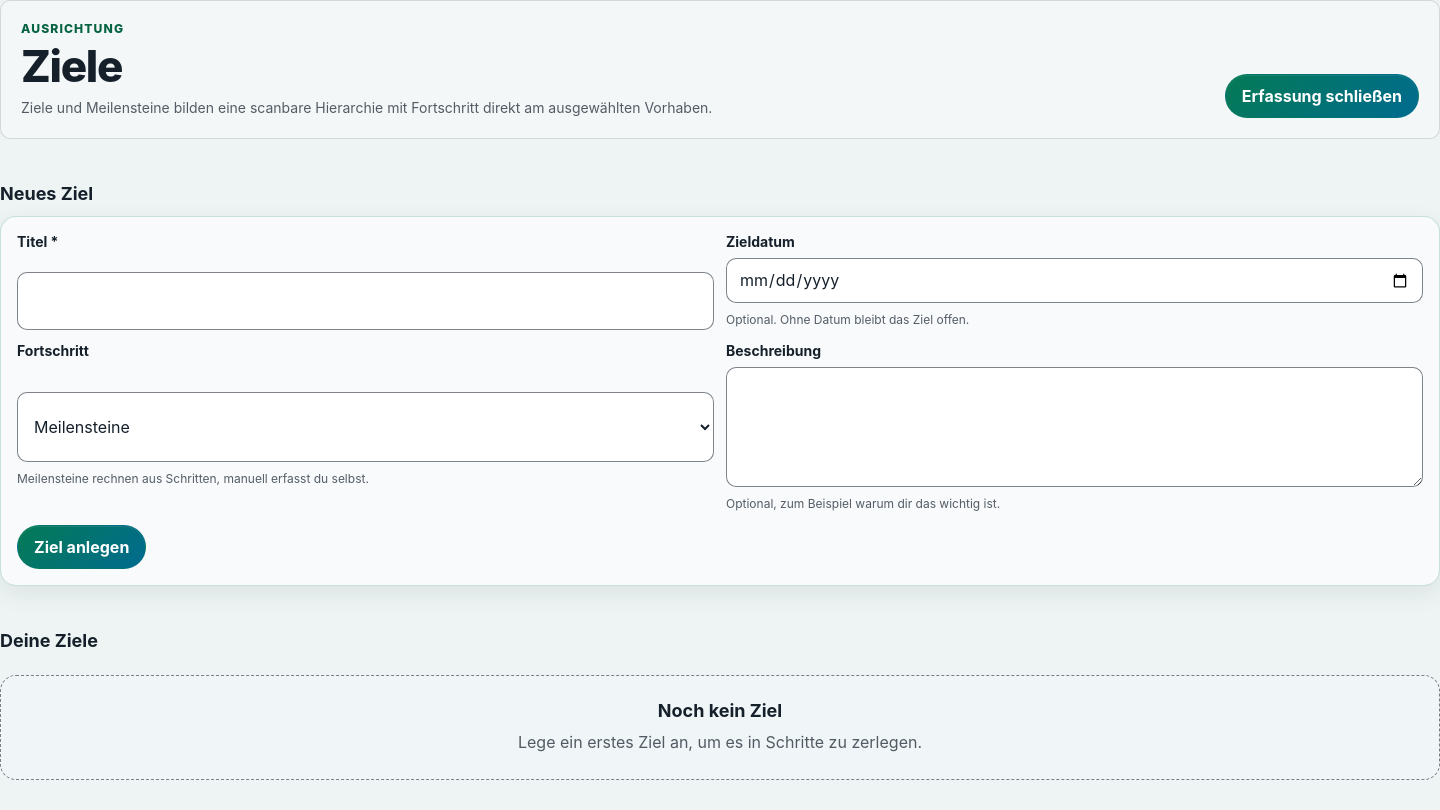
Test: GoalsPage › offers only reachable status transitions
The width and height of the screenshot is (1440, 810).
Expected: the heading "Noch kein Ziel" is shown, [658,700,782,722]
Type "Synthetisches Ziel" into the field labelled "Titel *". click: point(366, 301)
box: [17,272,714,330]
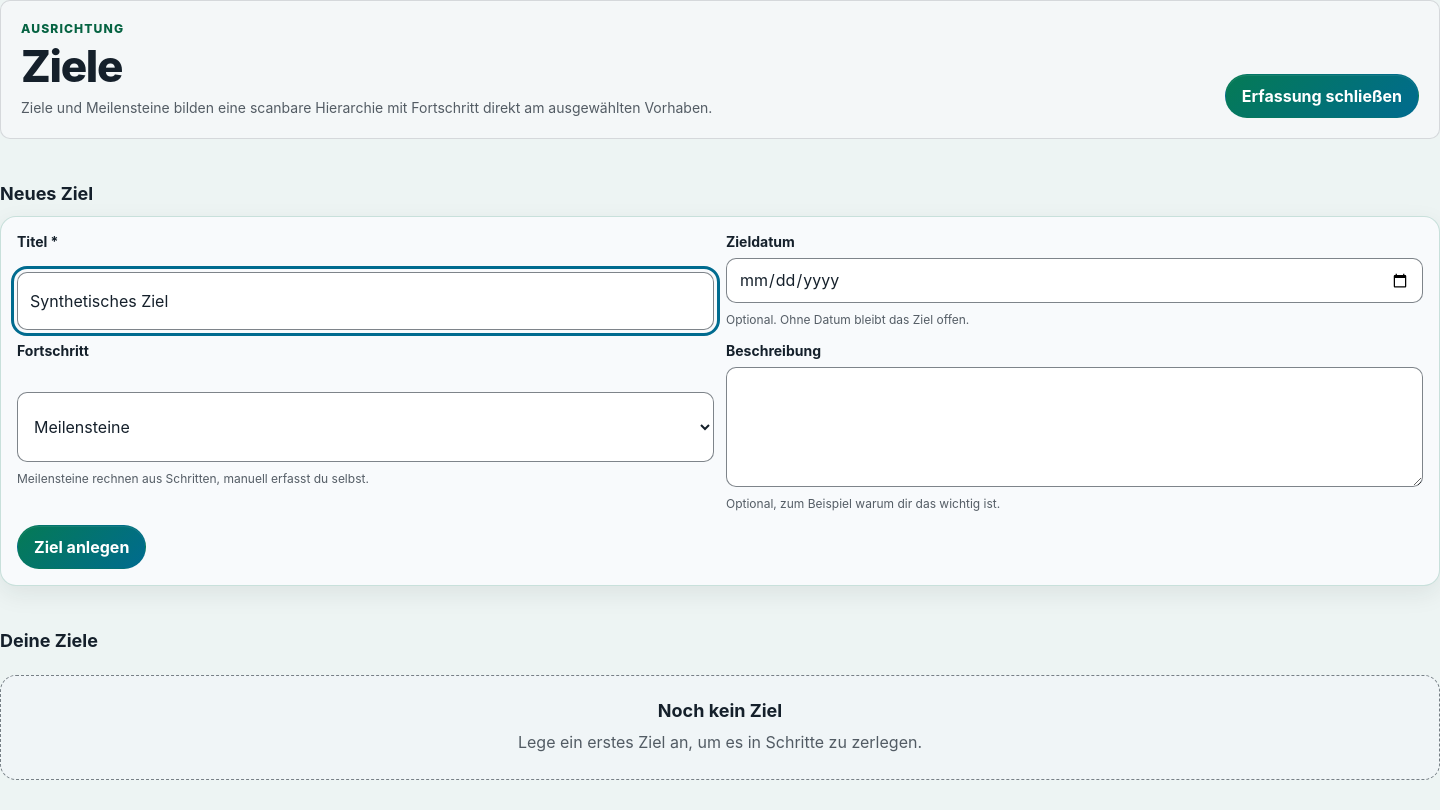
Click the button "Ziel anlegen". click: point(82, 548)
box: [17,526,146,570]
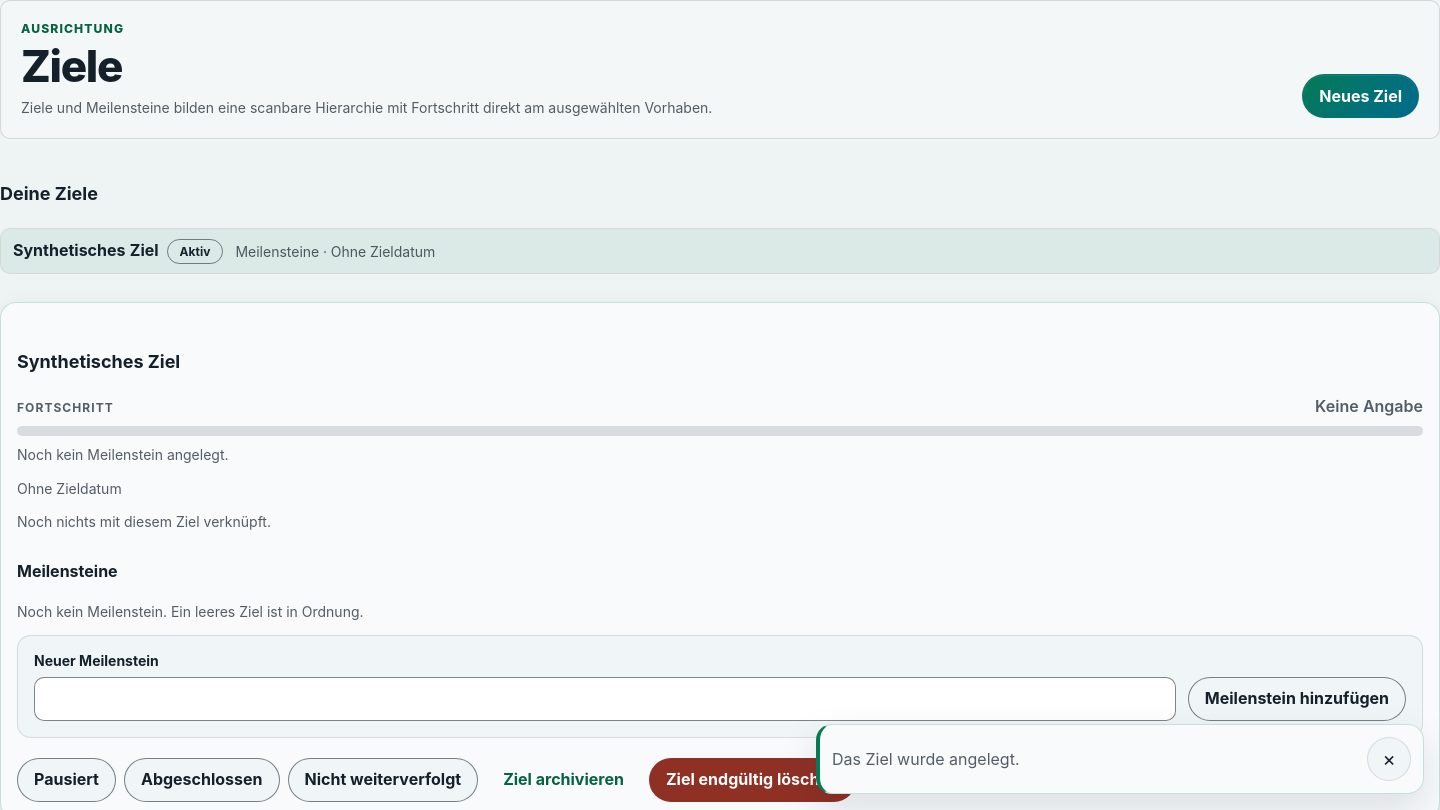
Click the button "Abgeschlossen". click: point(202, 780)
box: [124,758,280,802]
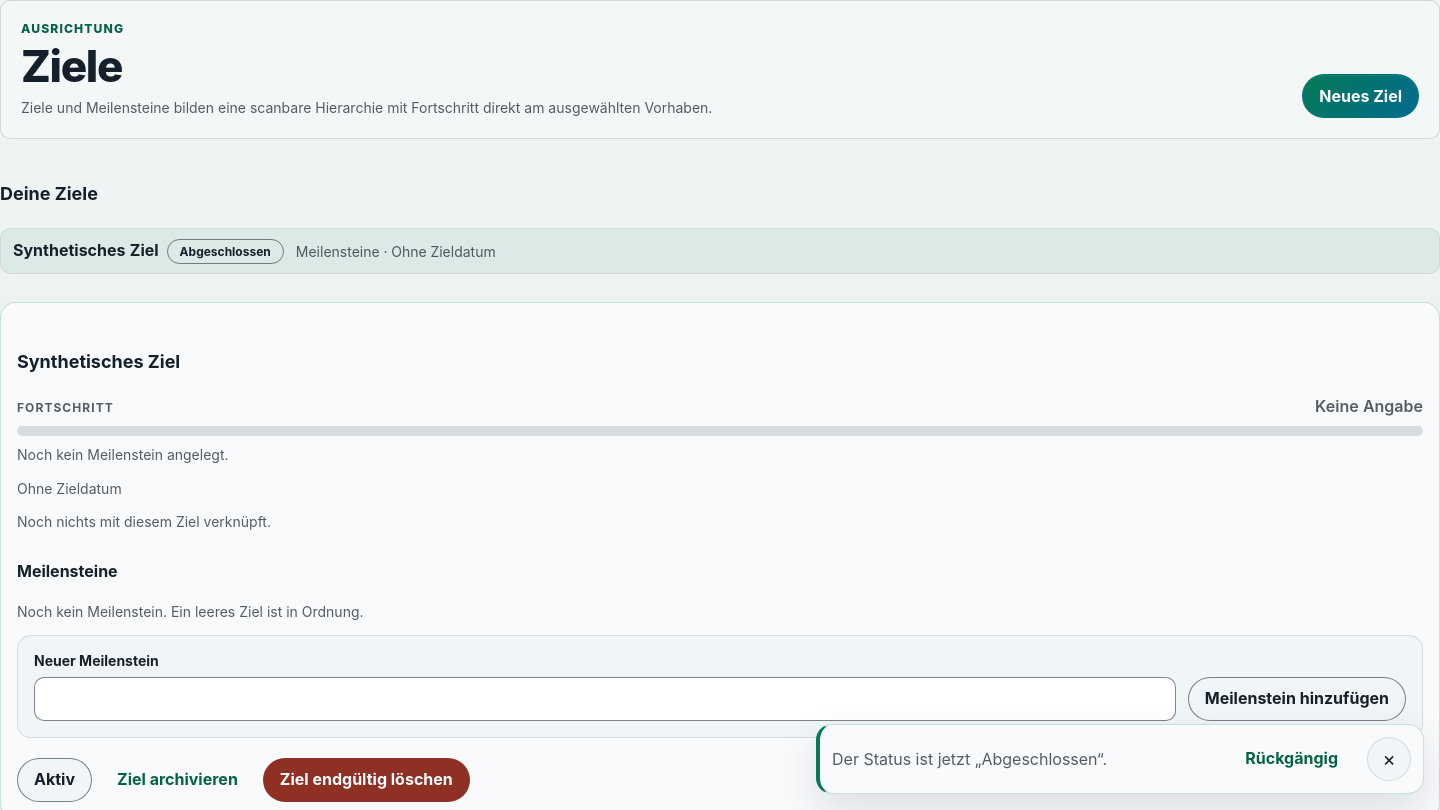
Result: the button "Aktiv" is shown at [17,758,92,802]
Result: the text "Der Status ist jetzt „Abgeschlossen“." is shown at [832,749,1107,769]
Result: the button "Nicht weiterverfolgt" is gone
